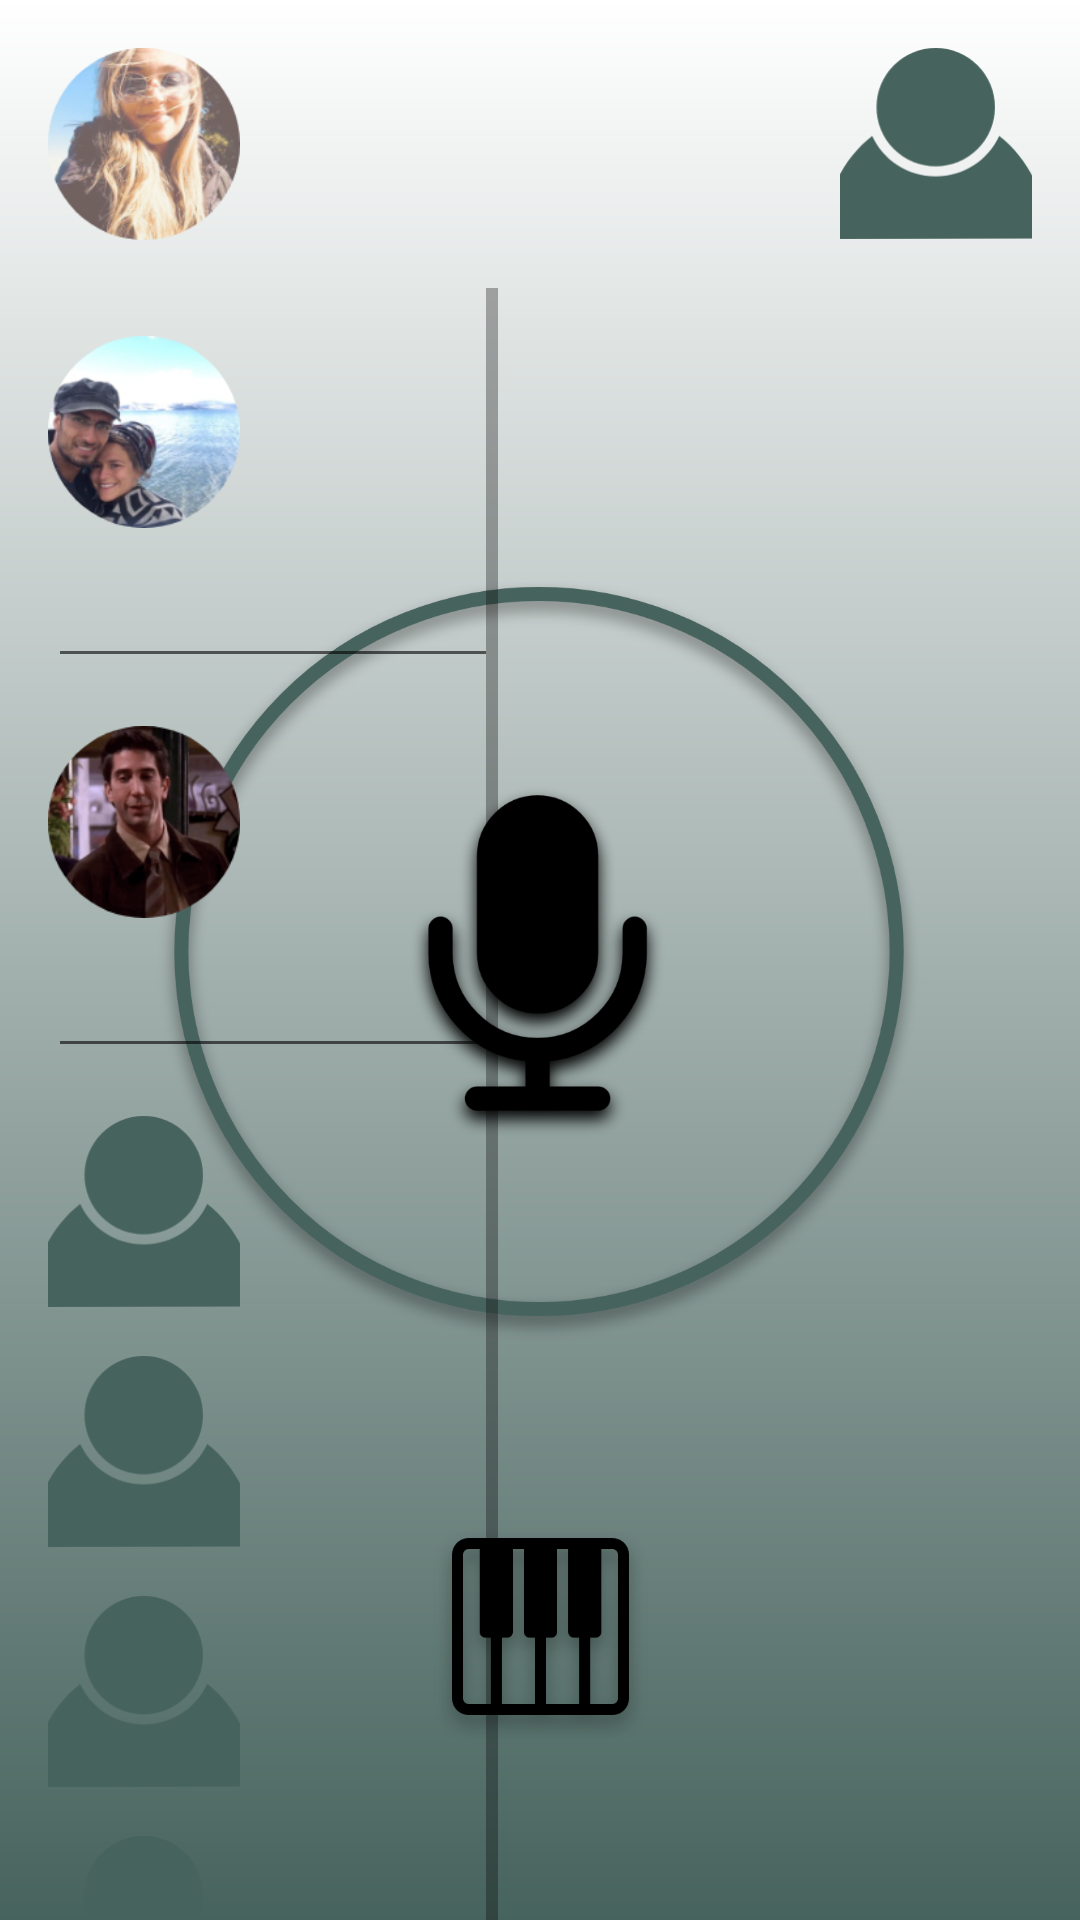

Named icons in this screenshot (1080w x 1920h) and their centers, point (x, y):
piano: point (540, 1635)
